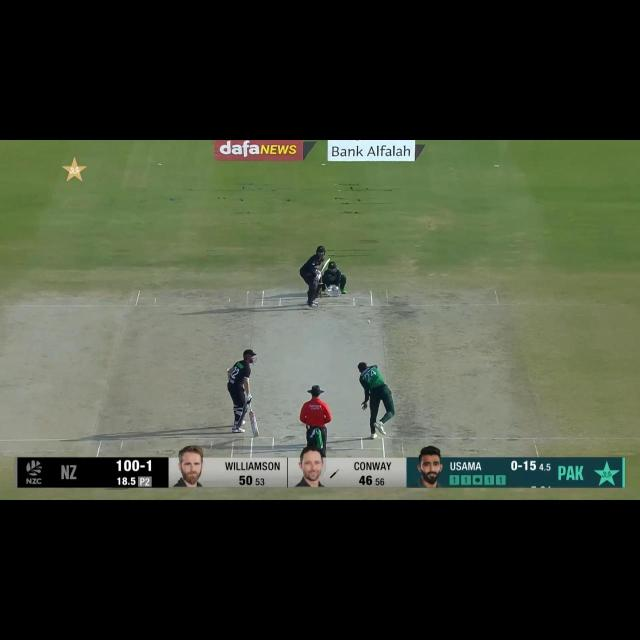bat: (248, 410, 261, 440), (320, 257, 331, 272)
toe: (253, 431, 259, 437), (326, 258, 332, 262)
